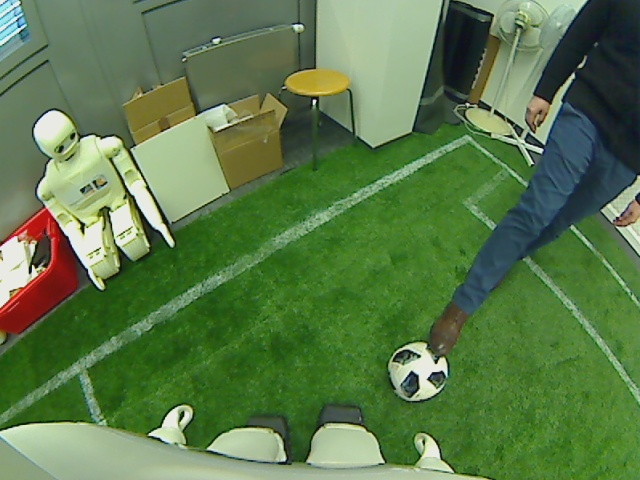ball: (386, 343, 450, 401)
